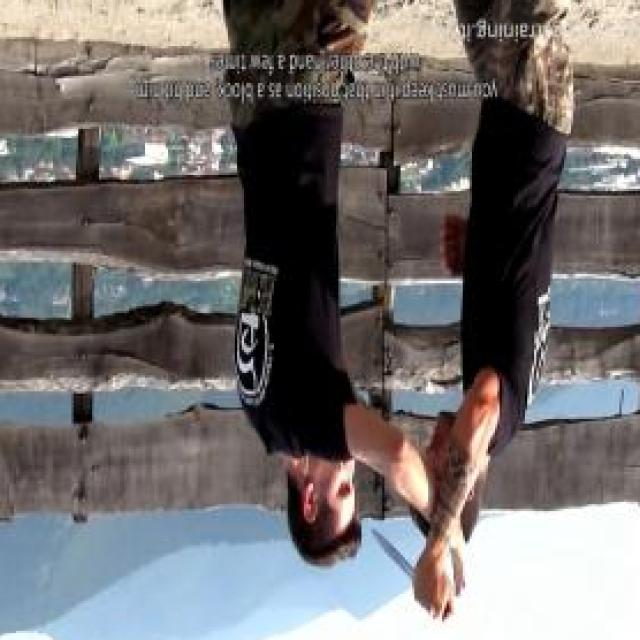knife: (368, 525, 456, 631)
